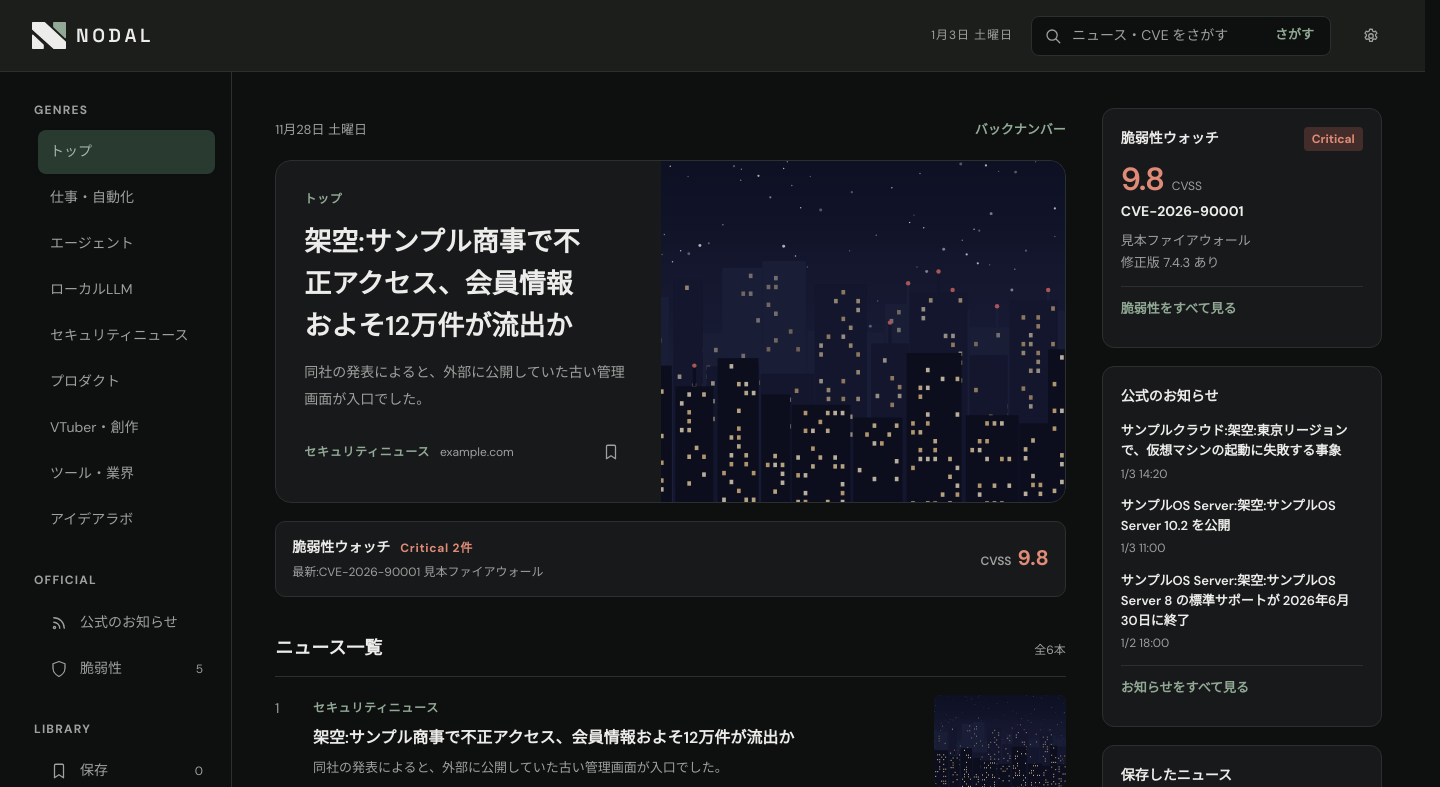
さがす:入力中の候補 › ジャンルの候補を押すとジャンルの画面へ。公式のお知らせの候補は結果の画面へ(外部リンクにしない)
This screenshot has width=1440, height=787.
In the dropdown named "検索語": (1166, 36) [1070,23,1263,48], type "エージェント"
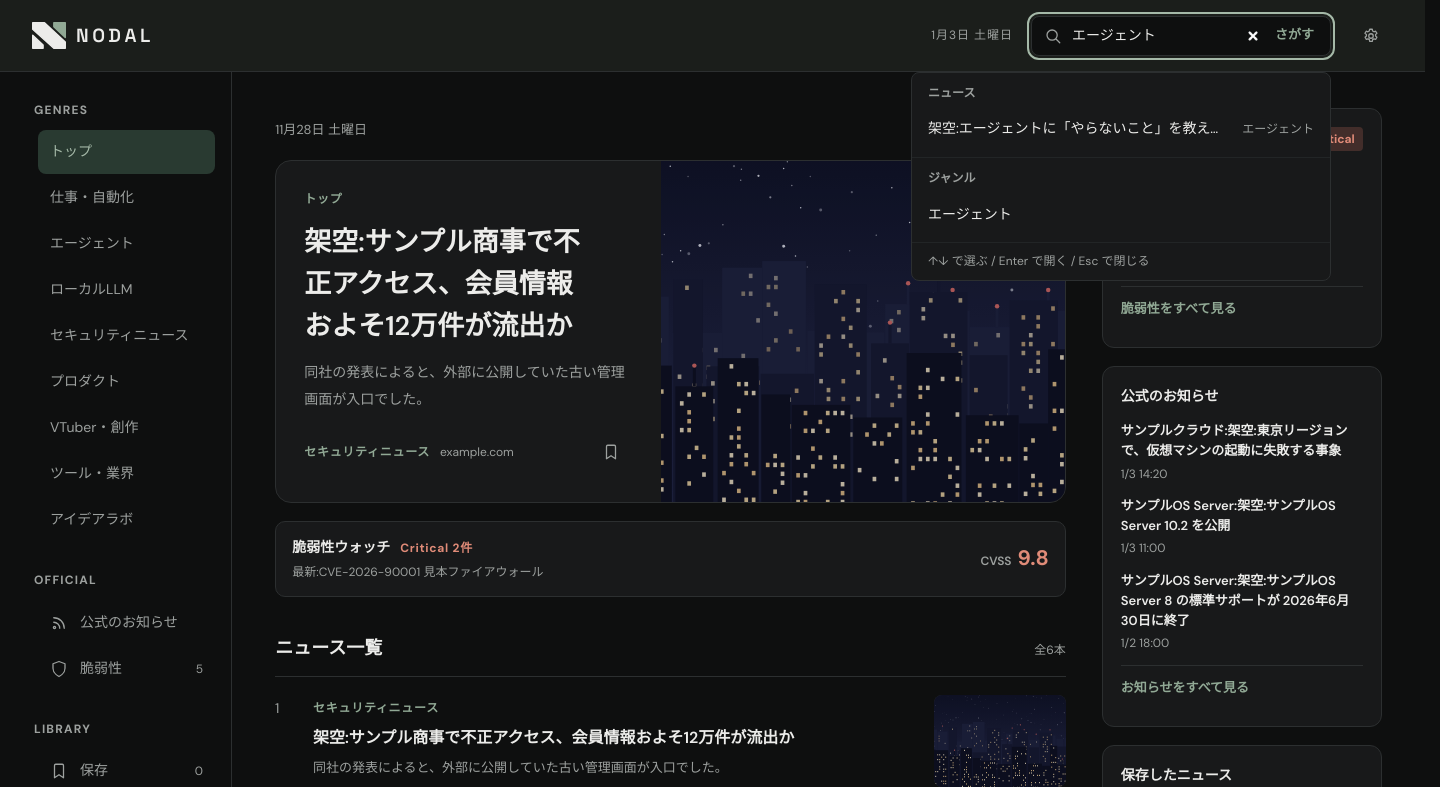
Click the option "エージェント": (970, 214) [928,205,1012,223]
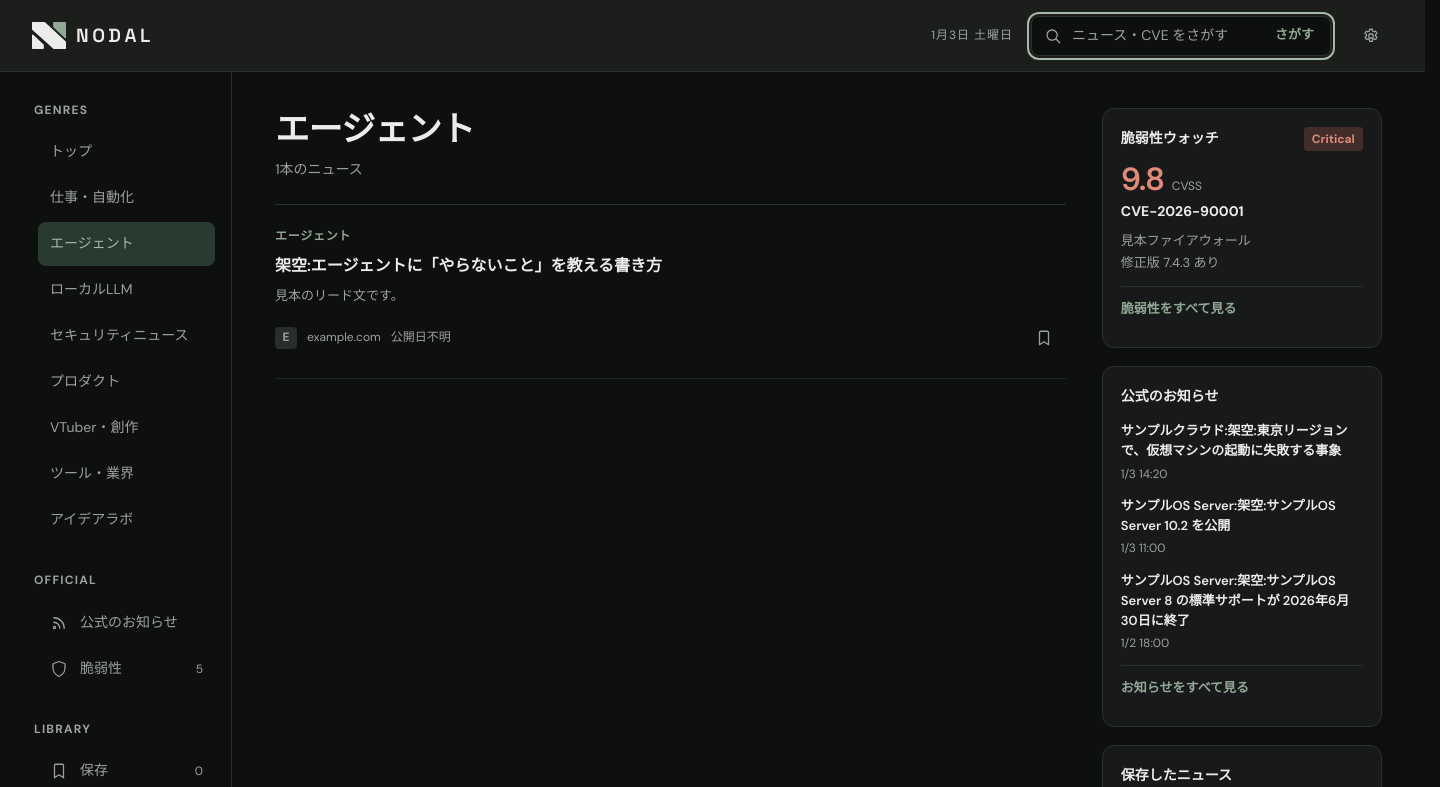
In the dropdown named "検索語": (1166, 36) [1070,23,1263,48], type "サンプルOS"
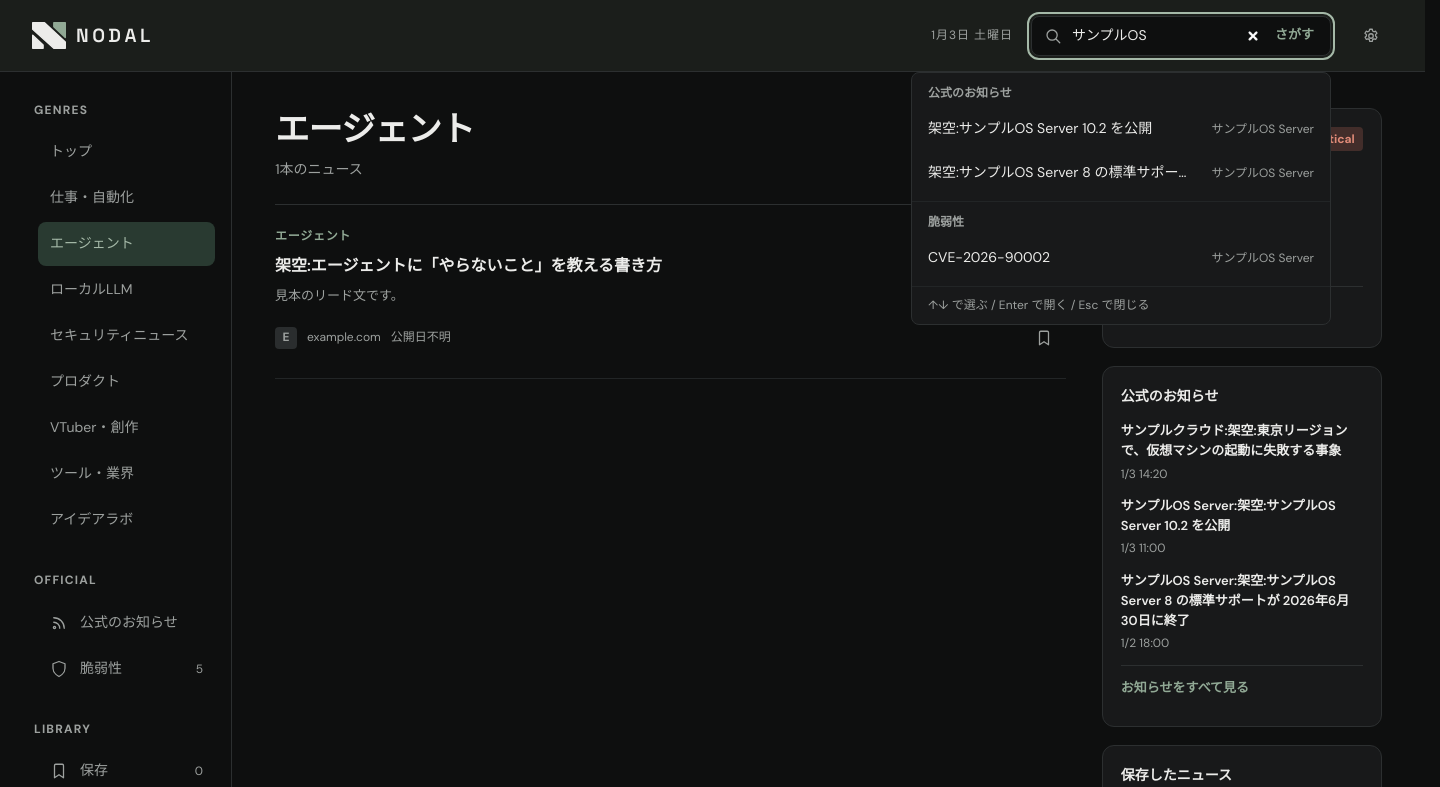
Click the option "架空:サンプルOS Server 10.2 を公開 サンプルOS Server": (1121, 128) [928,119,1314,137]
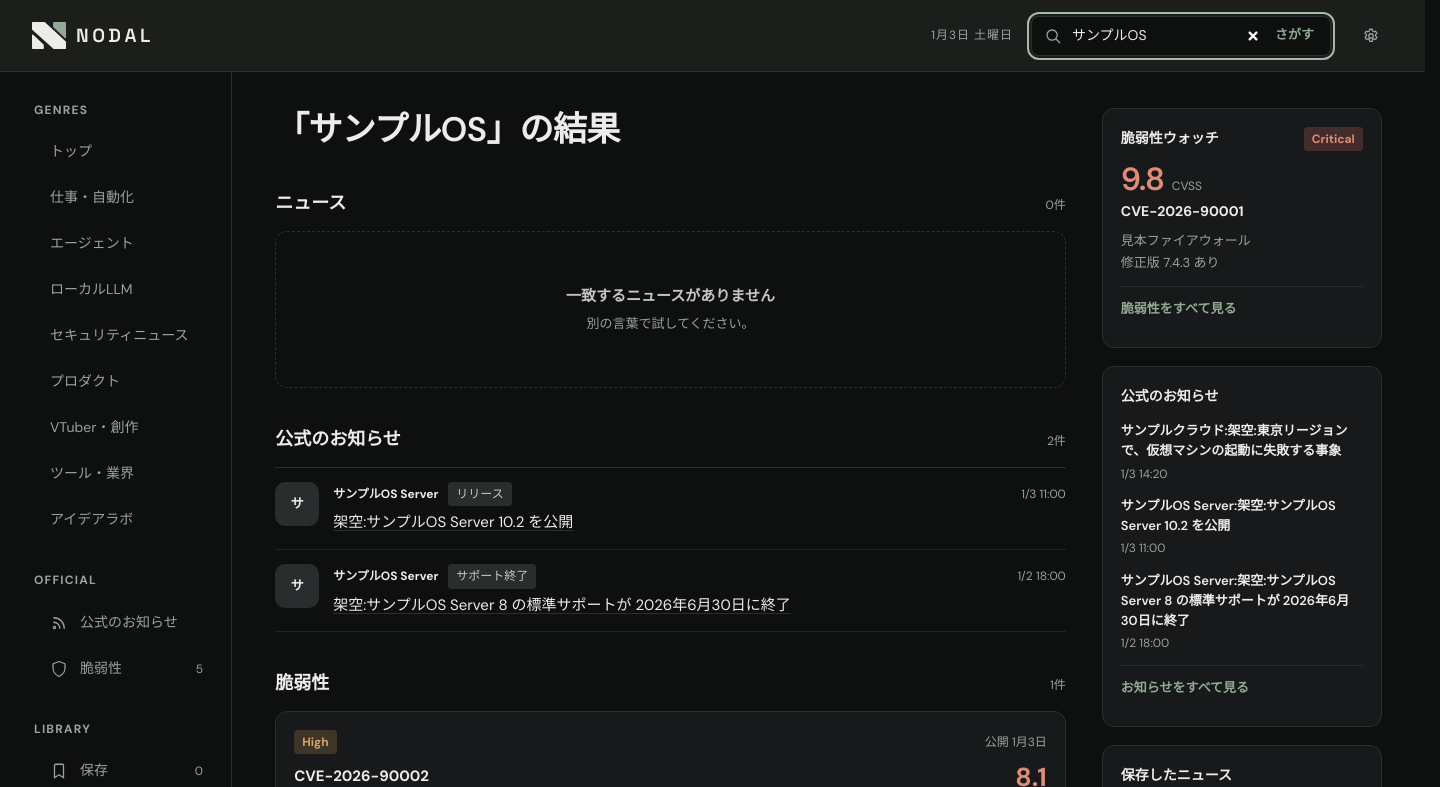
Result: the heading "「サンプルOS」の結果" is shown at [275,107,620,152]
